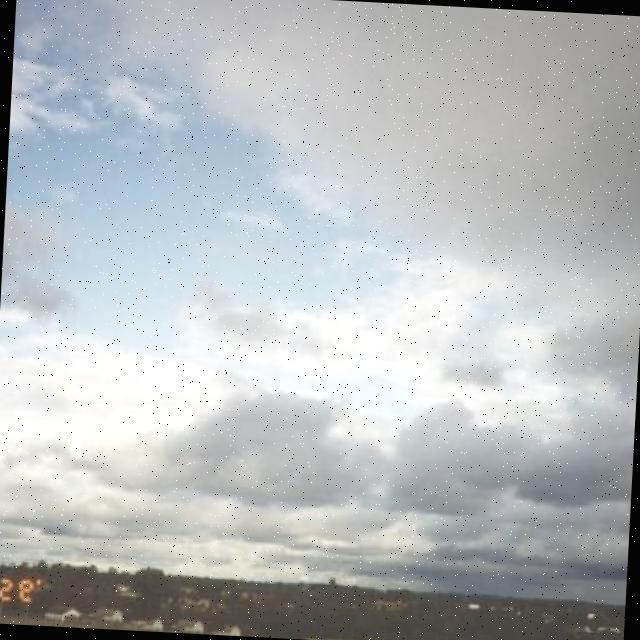Sc: (1, 1, 640, 549)
